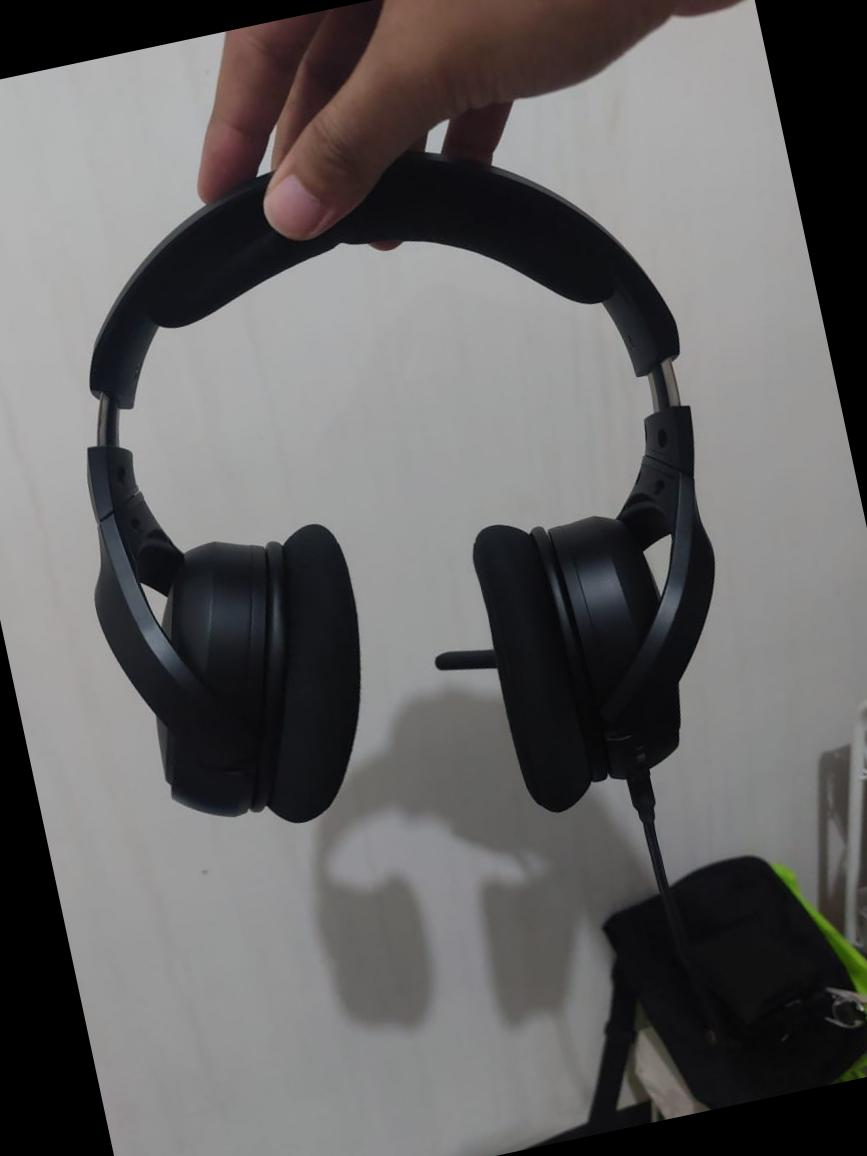Headset: (0, 80, 781, 911)
